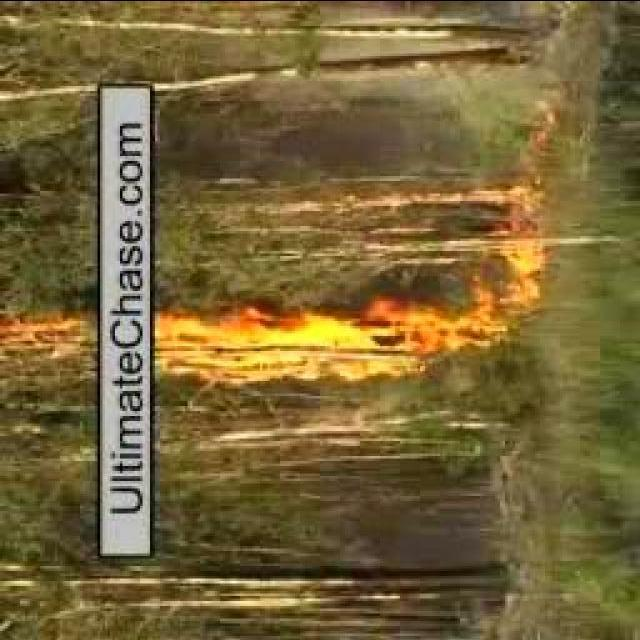Fire: (434, 184, 552, 356), (163, 300, 417, 378), (6, 310, 90, 352)
